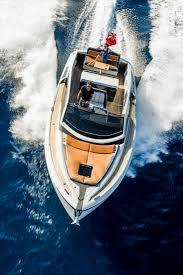Ship: (46, 49, 137, 225)
